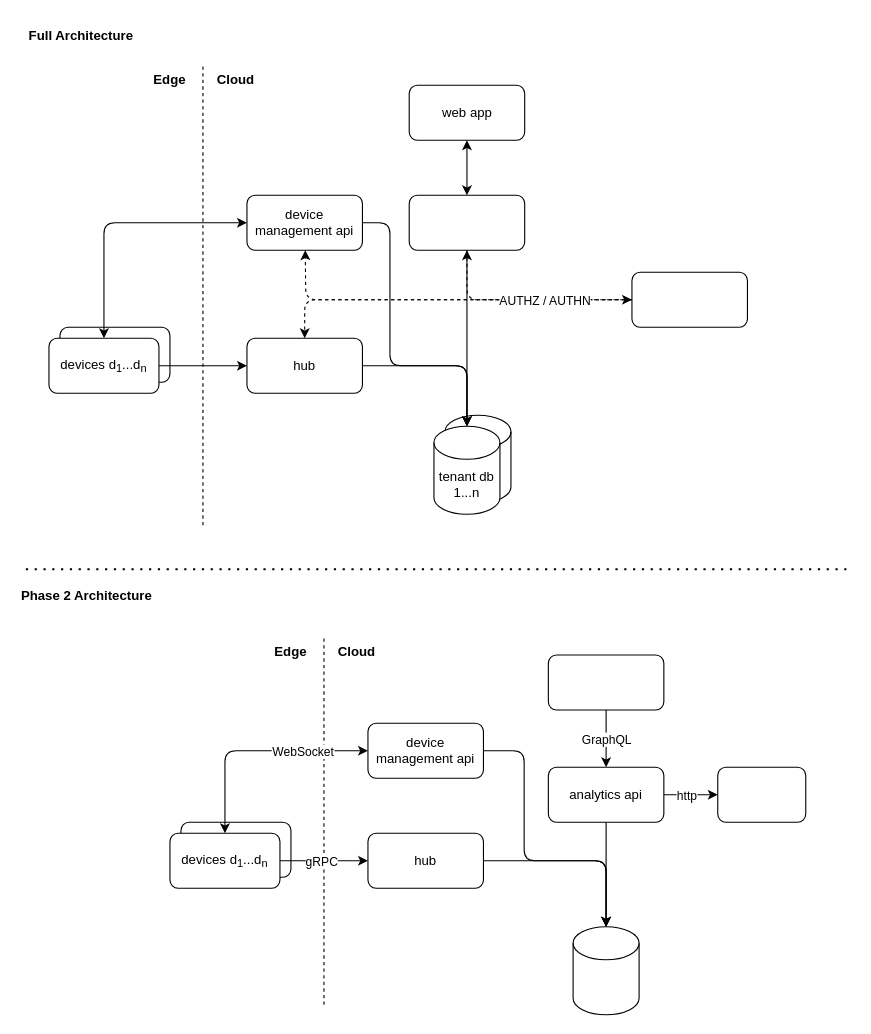
Image size: 871x1034. Some labels were removed from this diagram. The shapes that lost their labels are listed below. From the top down, each one's centre as x and y in pixels, then its label:
point 466,222: web app api
point 689,299: user management
point 605,682: analytics frontend
point 761,794: mlflow
point 605,970: tenant db
